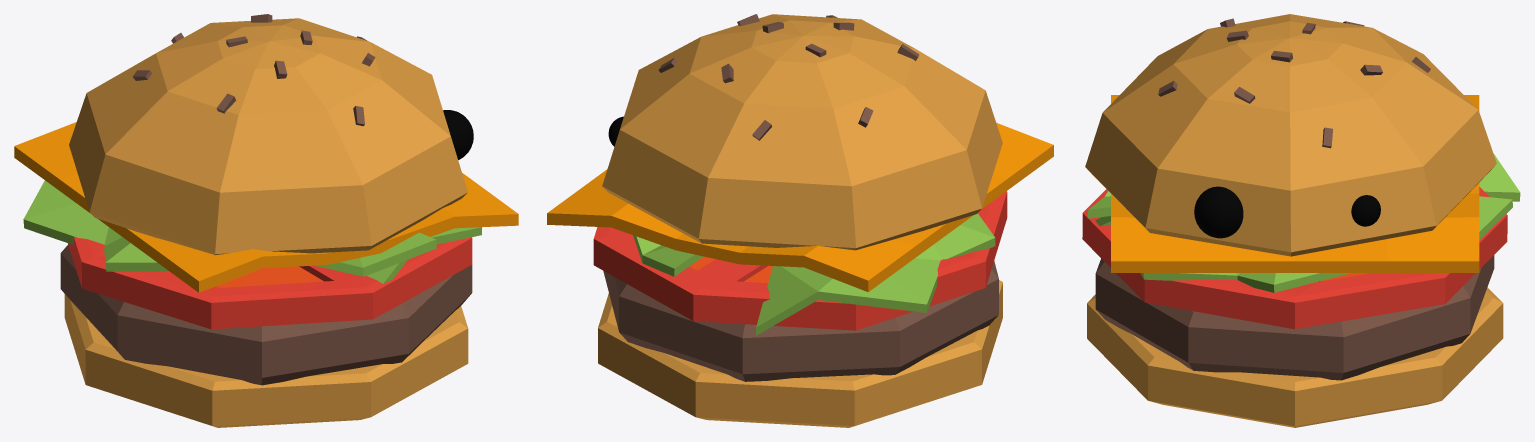
Rendered from Burgerman.fbx.
3 views of the same model, side by side, from view 1: azimuth 30°, elevation 25°; view 2: azimuth 150°, elevation 25°; view 3: azimuth 270°, elevation 25° (orthographic).
Visible parts, largest first — view 1: Circle.003_Circle.004; view 2: Circle.003_Circle.004; view 3: Circle.003_Circle.004.
Part boxes in pixels (<box>): Circle.003_Circle.004: <box>14,14,518,427</box>; Circle.003_Circle.004: <box>547,14,1053,427</box>; Circle.003_Circle.004: <box>1082,14,1520,427</box>.
Bounding box in the file's own units: 687 × 558 × 708.
